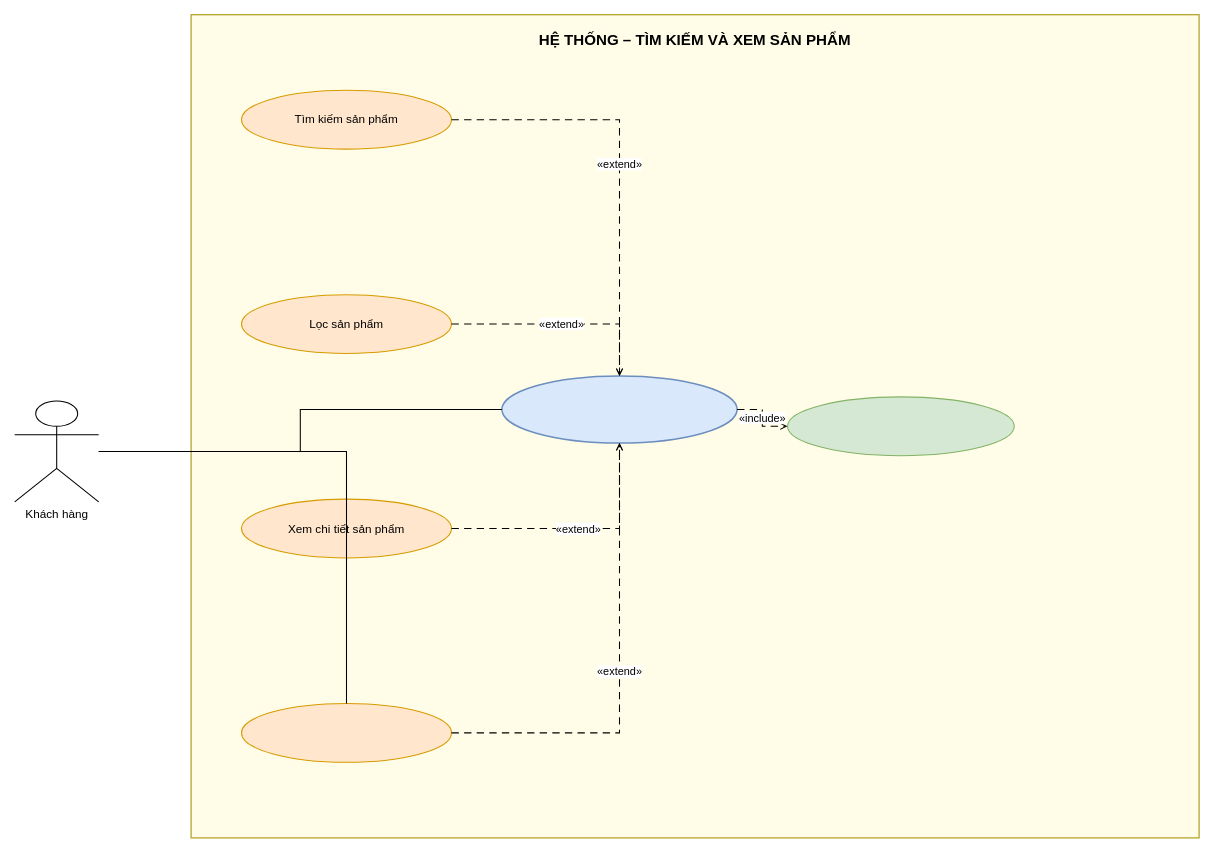
The diagram is 1215 pixels wide and 853 high, and some of its shapes have lost their labels. Here are the shapes that lost their labels. From the top down, the centre of each, then its label:
At [619,409]: "Tìm kiếm và xem sản phẩm".
At [900,426]: "Kiểm tra tồn kho".
At [346,732]: "So sánh sản phẩm".
